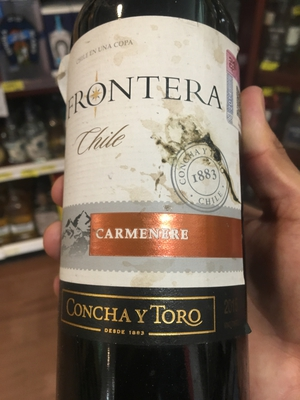frontera carmenere: (53, 8, 255, 400)
